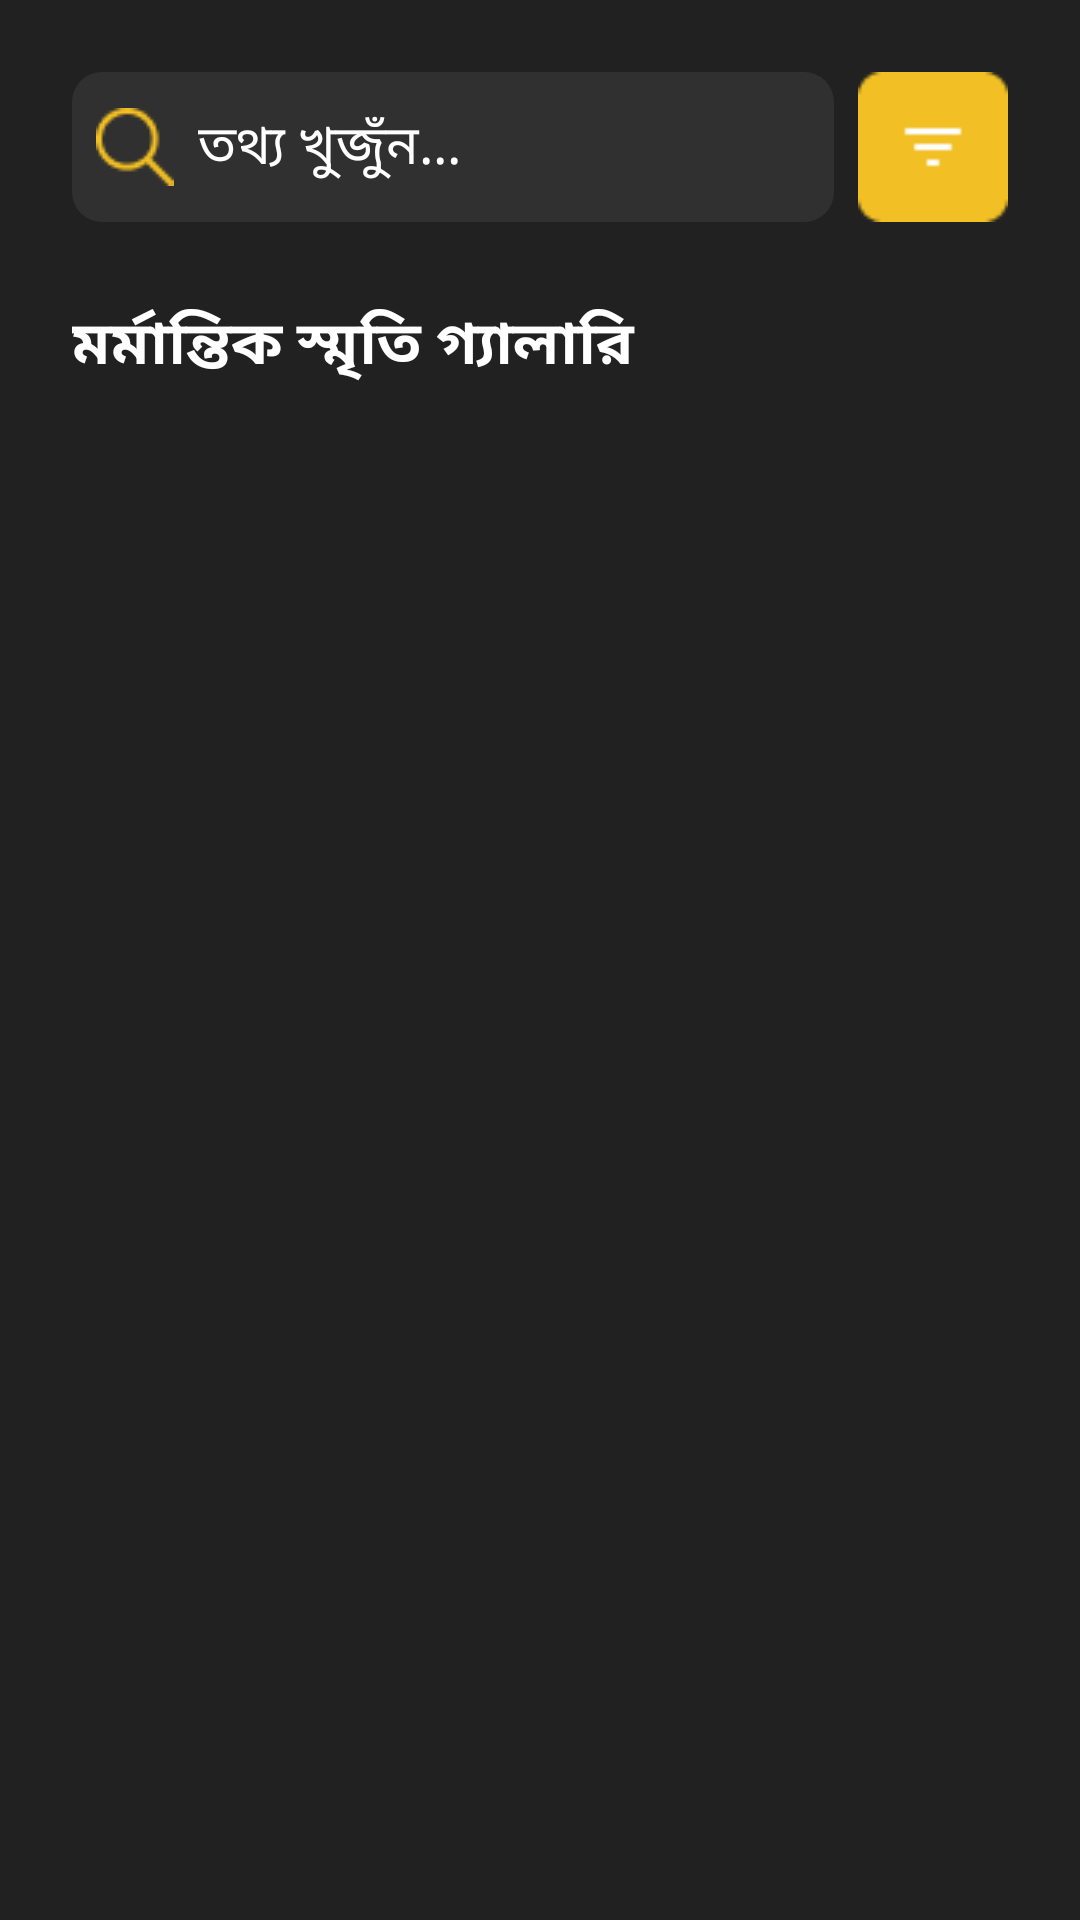

Locate icon controls on the screen. Image size 1080w x 1920h, boxes as (x1, y1, x2, y2).
fileter: (858, 72, 1008, 222)
